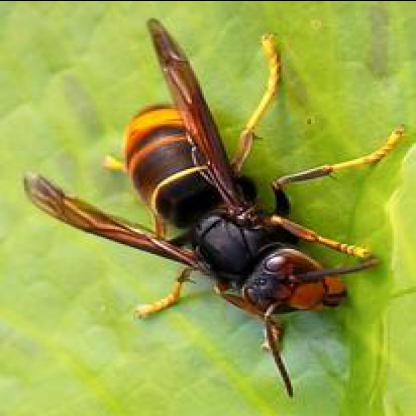asian: (22, 17, 400, 382)
